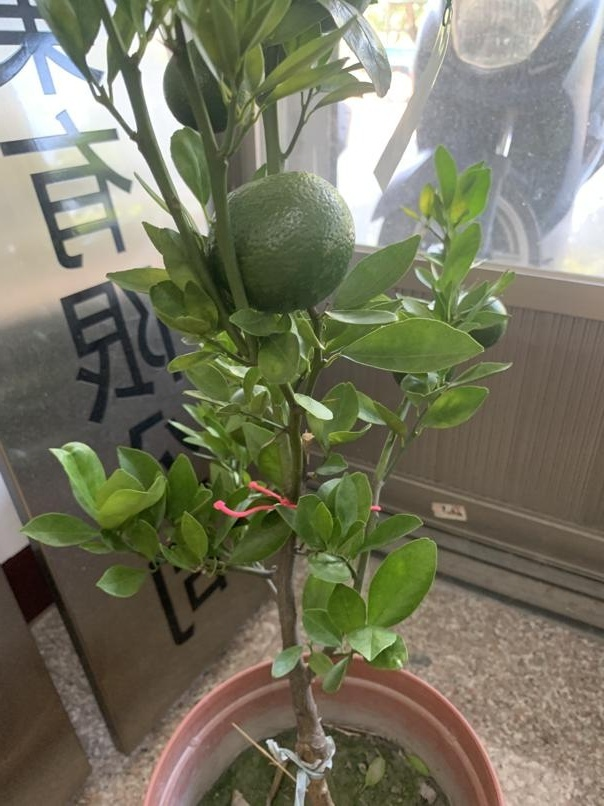Tangerine: (209, 175, 355, 310)
